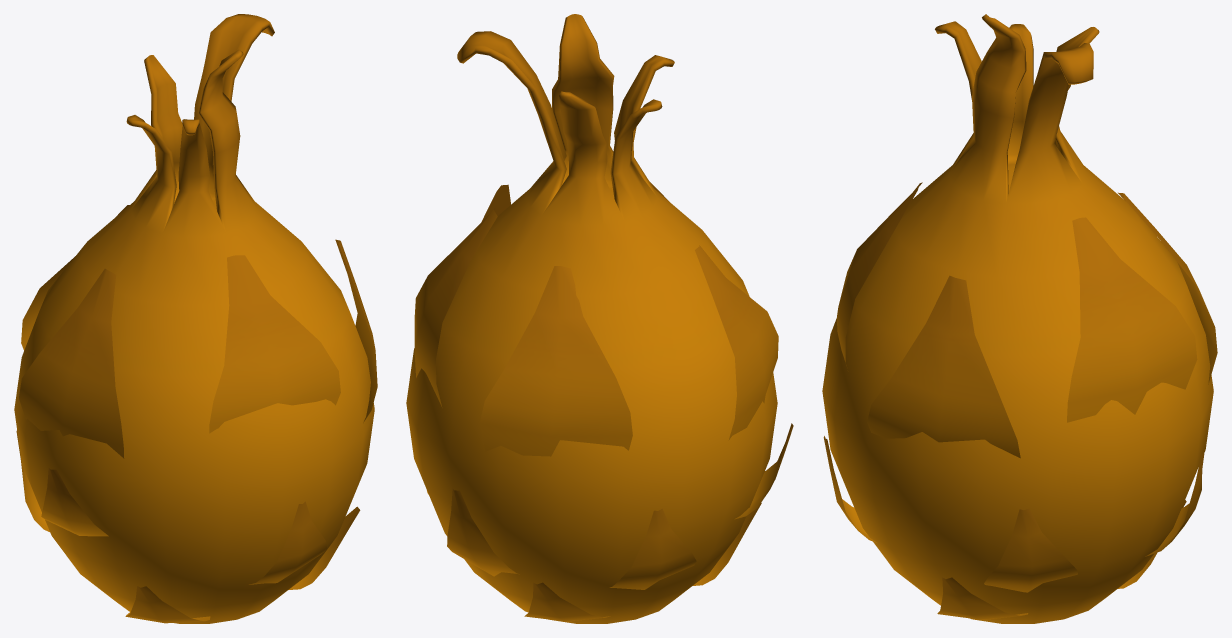
The model's file is Pitaya_yellow.fbx.
3 views of the same model, side by side, from view 1: azimuth 30°, elevation 25°; view 2: azimuth 150°, elevation 25°; view 3: azimuth 270°, elevation 25° (orthographic). The views are drawn at different scales.
Parts seen in each view (by area): view 1: Pitaya_yellow; view 2: Pitaya_yellow; view 3: Pitaya_yellow.
Part boxes in pixels (<box>): Pitaya_yellow: <box>14,14,377,623</box>; Pitaya_yellow: <box>406,14,793,623</box>; Pitaya_yellow: <box>822,14,1217,623</box>.
Bounding box in the file's own units: 109 × 175 × 104.
